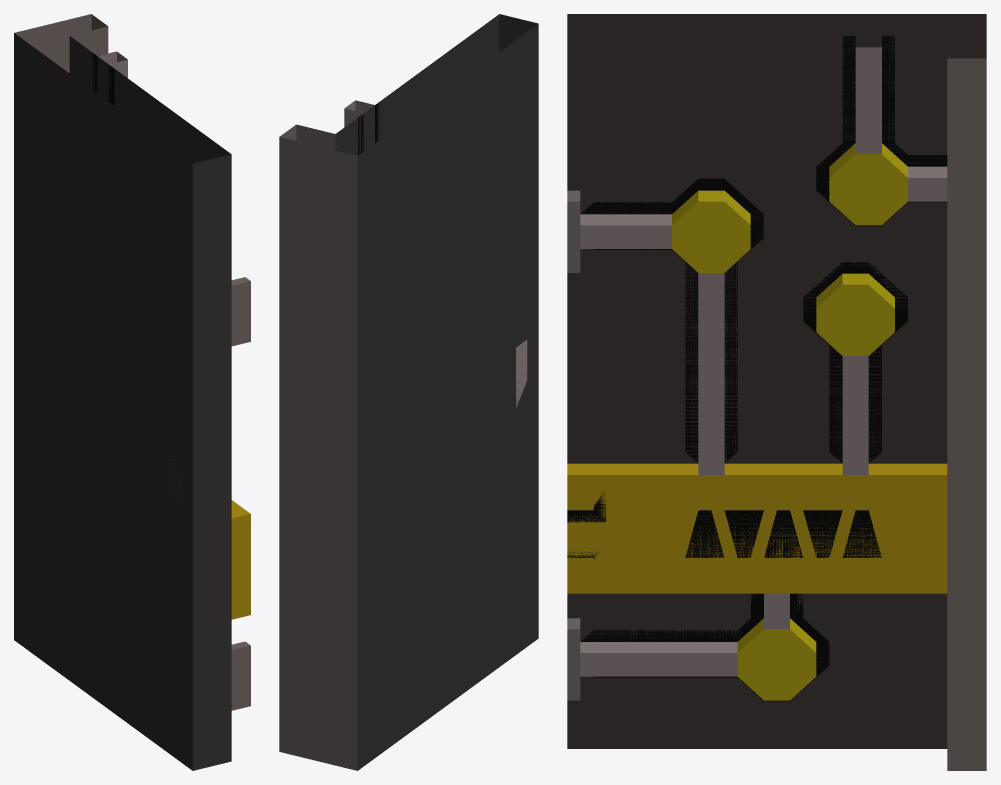
3 views of the same model, side by side, from view 1: azimuth 30°, elevation 25°; view 2: azimuth 150°, elevation 25°; view 3: azimuth 270°, elevation 25° (orthographic). The views are drawn at different scales.
Bounding box in the file's own units: 0.25 × 1.88 × 1.
